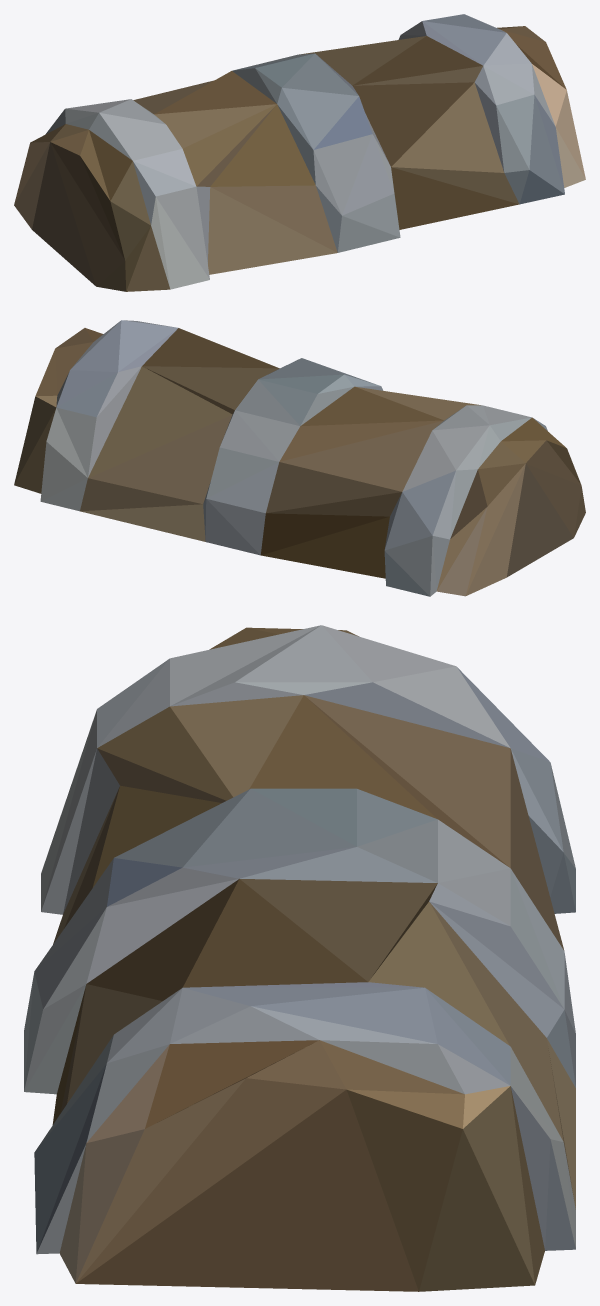
File: Chest-A_Top.fbx
3 views of the same model, one above another, from view 1: azimuth 30°, elevation 25°; view 2: azimuth 150°, elevation 25°; view 3: azimuth 270°, elevation 25° (orthographic). The views are drawn at different scales.
Parts seen in each view (by area): view 1: Chest-A_Top; view 2: Chest-A_Top; view 3: Chest-A_Top.
Boxes of the visible parts, left/top/right/bottom form: Chest-A_Top: left=14, top=14, right=585, bottom=291; Chest-A_Top: left=14, top=320, right=585, bottom=596; Chest-A_Top: left=24, top=625, right=575, bottom=1291.
Bounding box in the file's own units: 135 × 35.99 × 68.21.
